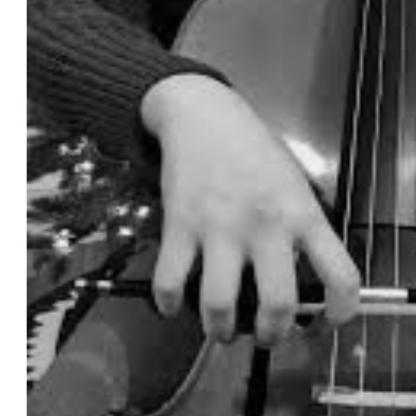good: (144, 148, 370, 352)
